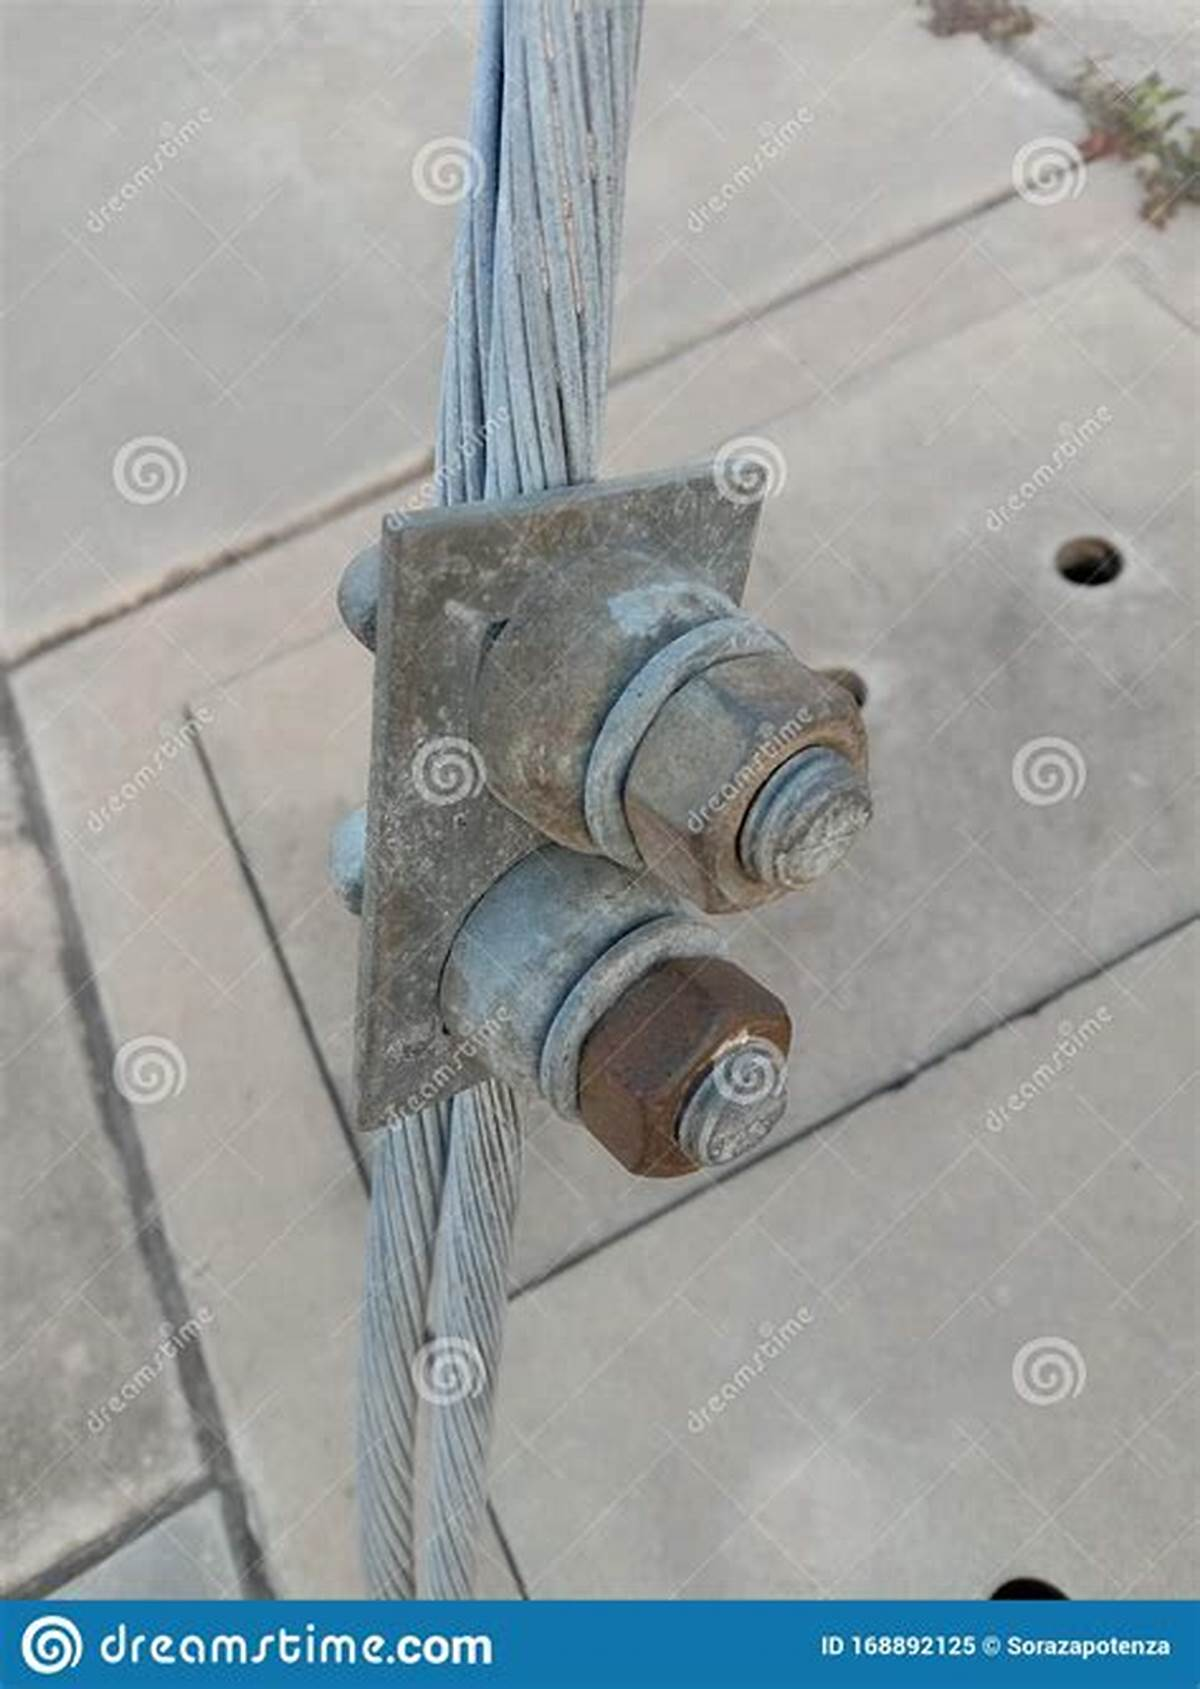bolt_b: (623, 644, 877, 917), (571, 962, 800, 1185)
